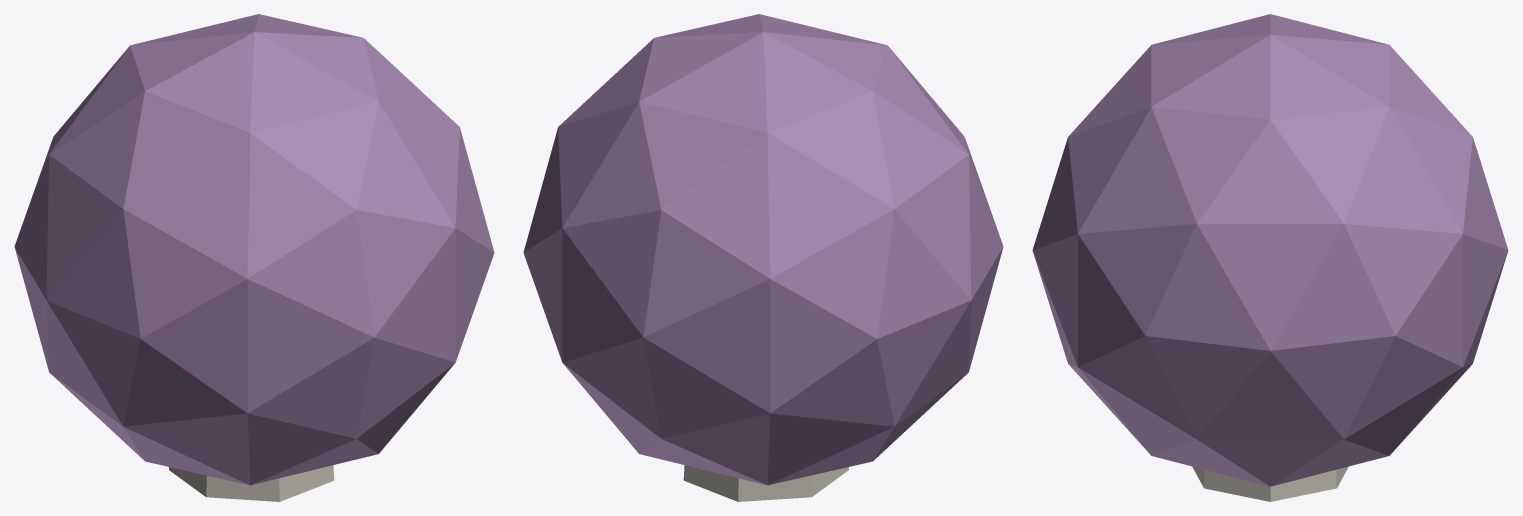
The model's file is phallus-merulinus.glb.
The picture shows the model from 3 angles, left to right: view 1: azimuth 30°, elevation 25°; view 2: azimuth 150°, elevation 25°; view 3: azimuth 270°, elevation 25°; orthographic projection.
Visible parts, largest first — view 1: ball, stalk; view 2: ball, stalk; view 3: ball, stalk.
Boxes of the visible parts, x1,y1,x2,y2 form: ball: [14, 14, 494, 485]; stalk: [169, 465, 334, 501]; ball: [523, 14, 1003, 485]; stalk: [683, 465, 848, 501]; ball: [1032, 14, 1508, 486]; stalk: [1192, 466, 1348, 501].
Size of the model in its own units: 0.28 by 0.28 by 0.28.
